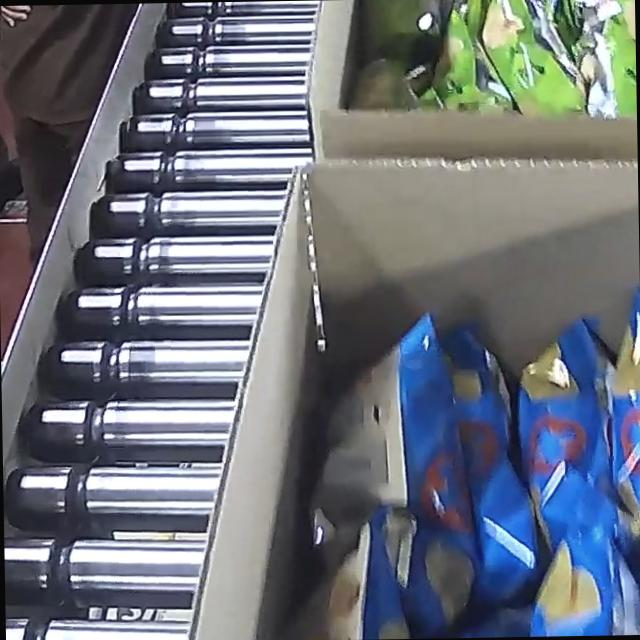paprika: (255, 282, 640, 640)
yogurt: (398, 0, 636, 122)
